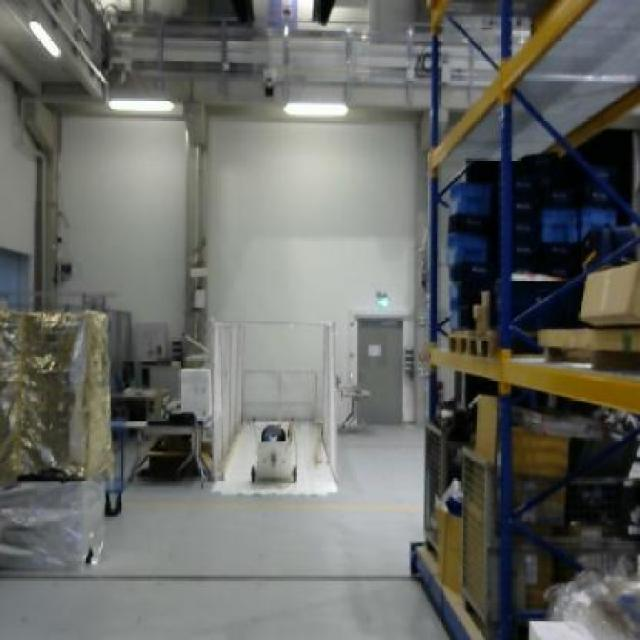box: (576, 258, 639, 329)
